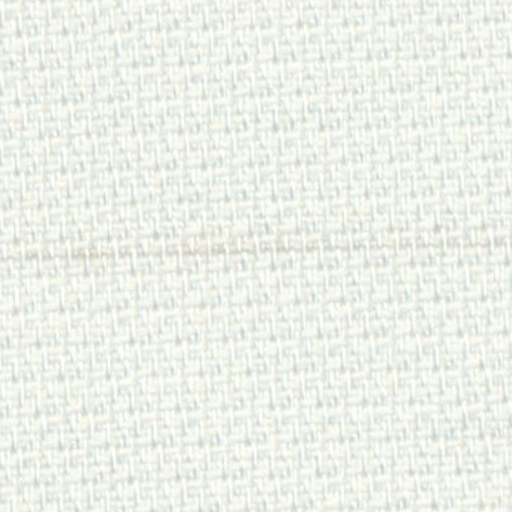WuZi: (25, 234, 476, 262)
